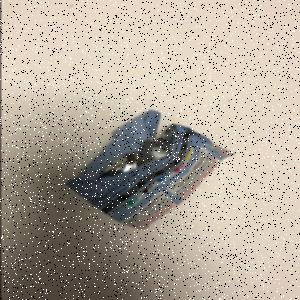Trash: (65, 110, 239, 232)
